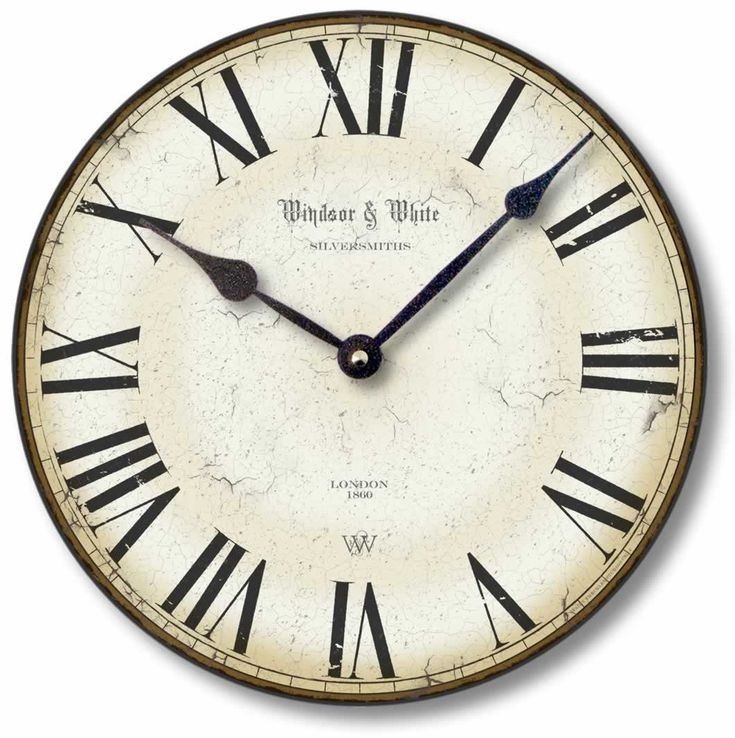clock: (21, 1, 735, 720)
